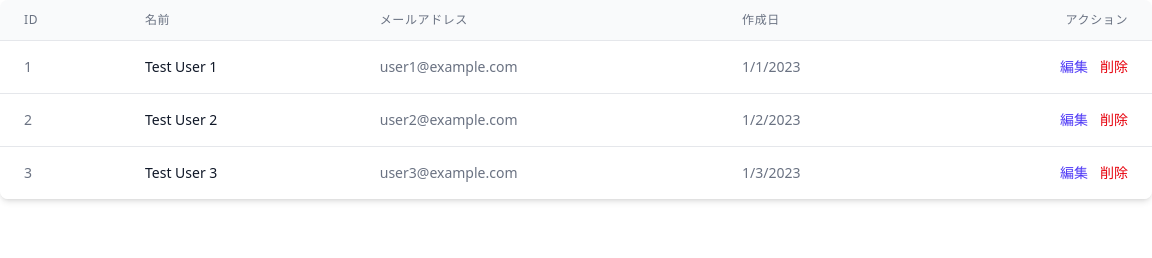
UserList Component › should enter edit mode when edit button is clicked
The width and height of the screenshot is (1152, 258).
Click edit button for the first user
Click the button "編集" in the row of "Test User 1": (1074, 67) [1060,57,1088,77]
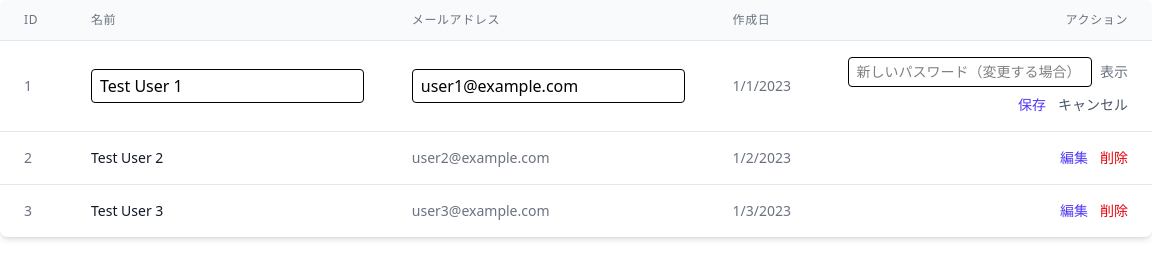
Expected: the 1st field showing "Test User 1" is shown, [91,69,364,103]
Expected: the 2nd field showing "user1@example.com" is shown, [412,69,685,103]
Expected: the password field with placeholder "新しいパスワード（変更する場合）" is shown, [848,57,1092,87]
